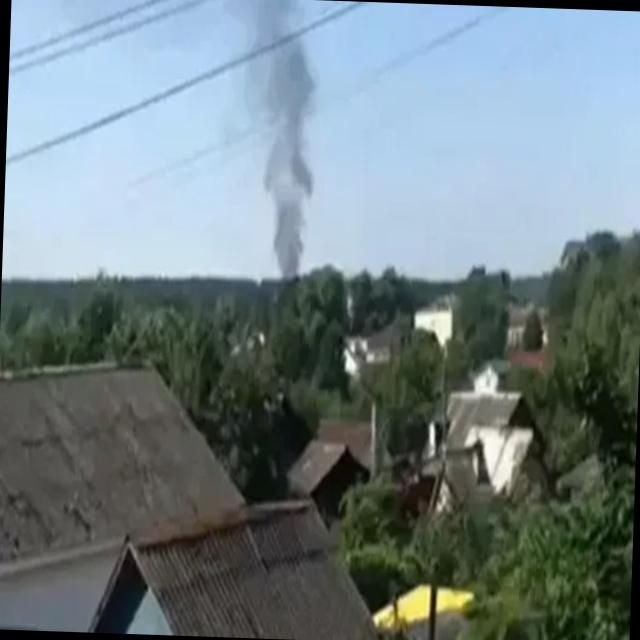Smoke: (228, 0, 322, 280)
